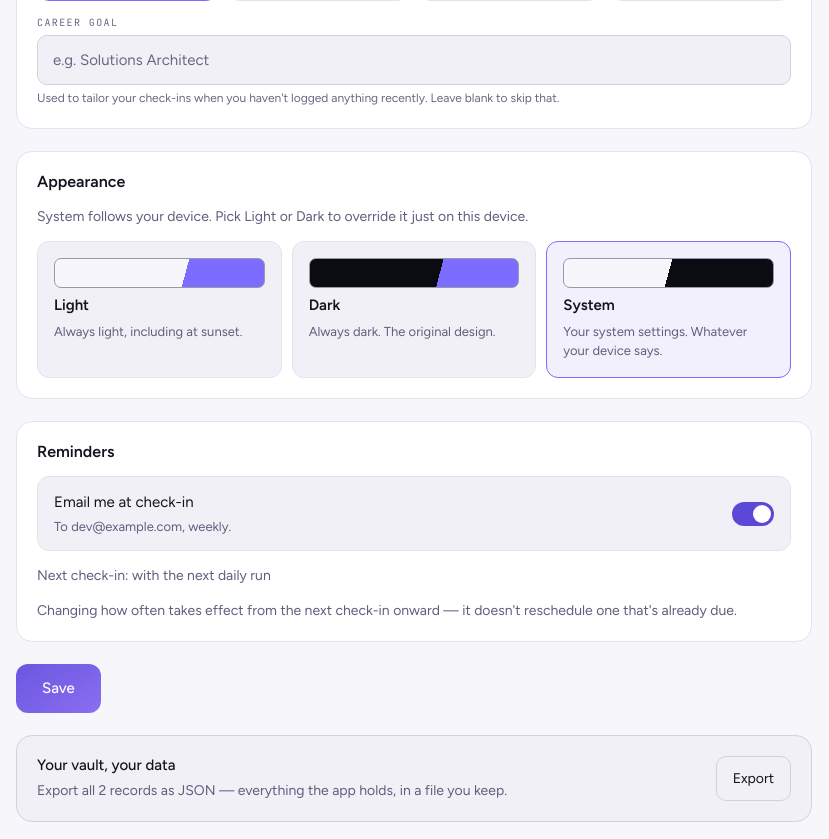
slice 2 review regressions › pausing keeps the cadence control focusable rather than dropping it from the tab order
(page scrolled)
Click the switch named "email me at check-in": (753, 514) [732, 502, 774, 526]
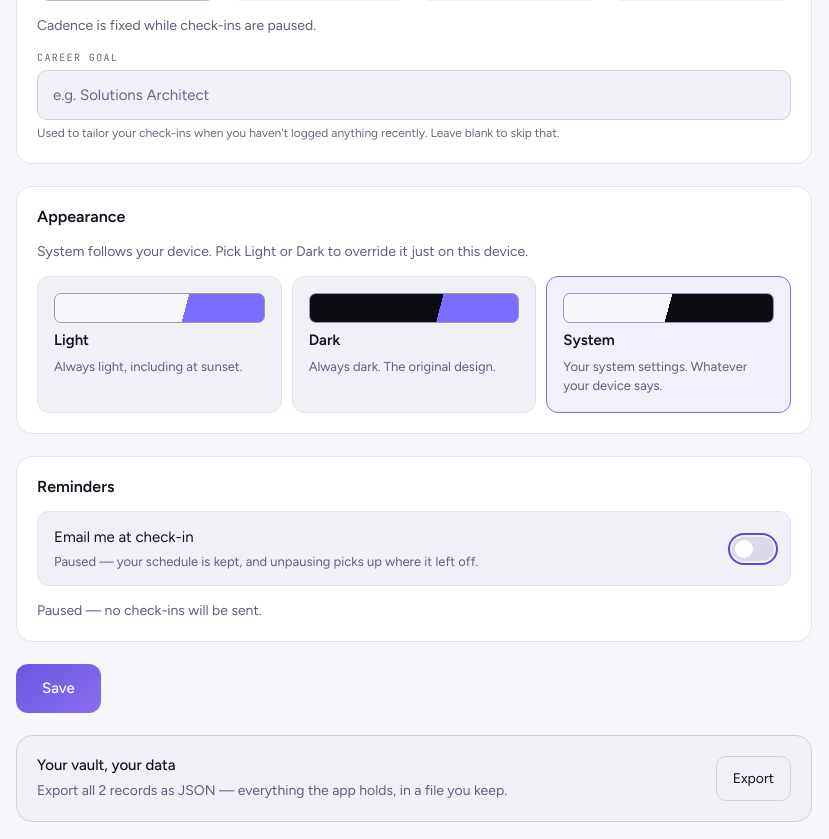
expect the text "Cadence is fixed while check-ins are paused." is shown: met, box [37, 17, 316, 34]
